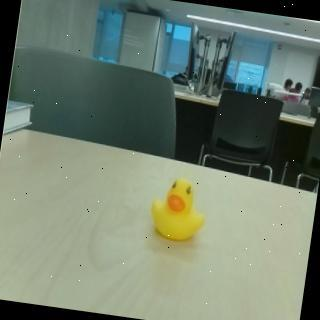duck_regular: (146, 174, 213, 246)
